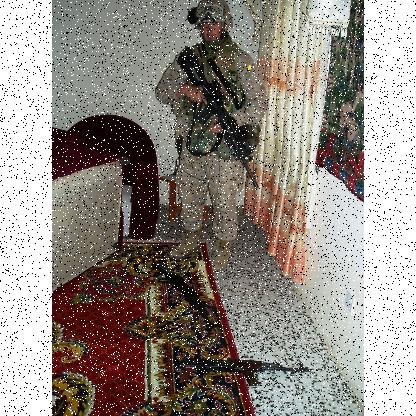gun: (174, 44, 258, 188), (152, 258, 221, 328), (178, 361, 310, 386)
